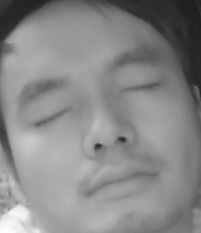blink: (33, 103, 75, 127), (119, 79, 159, 99)
mouth: (87, 157, 161, 202)
